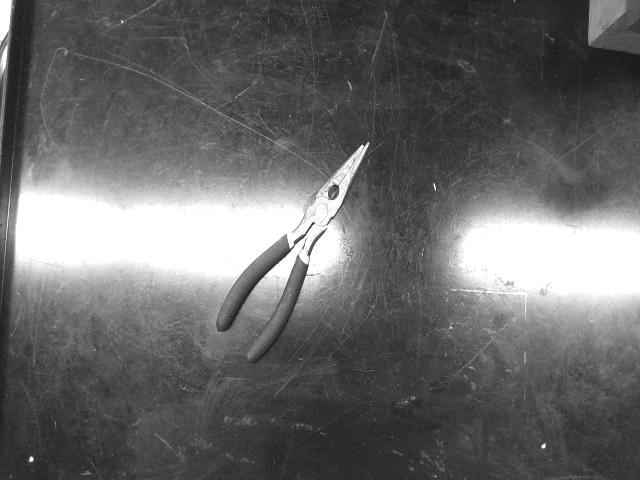Needle-nose pliers: (216, 143, 370, 362)
